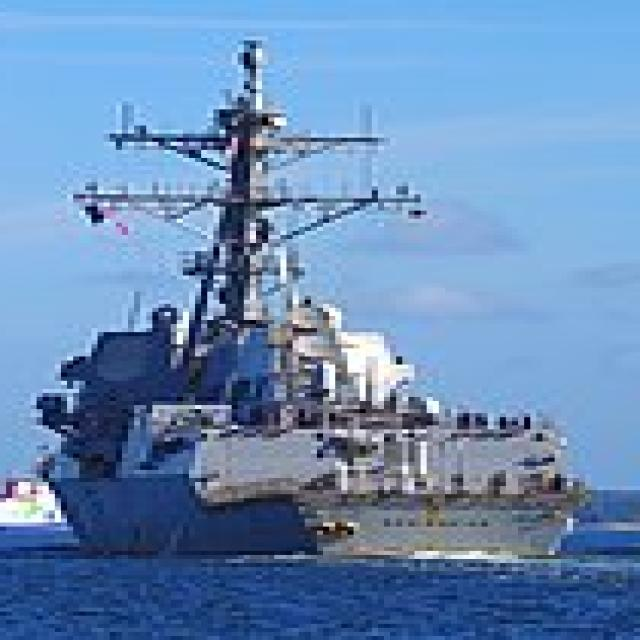Warship: (31, 28, 604, 563)
